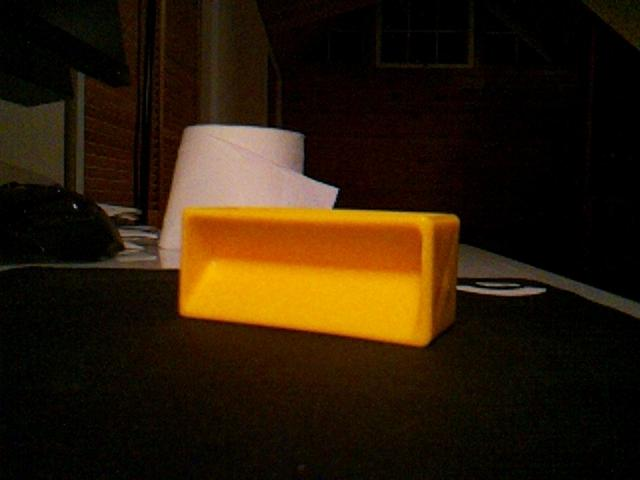yellow: (177, 205, 461, 348)
